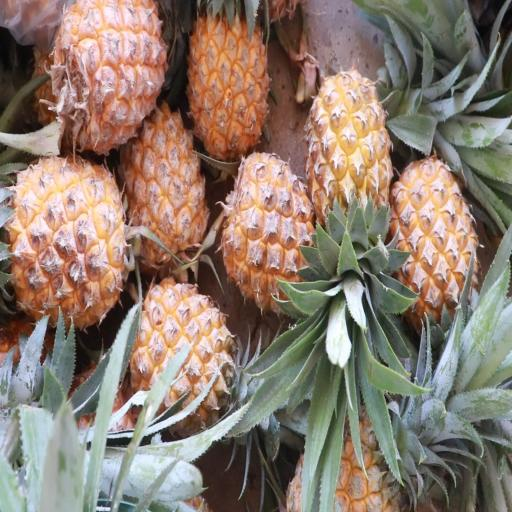Pineapple - v8 v1: (0, 151, 136, 333), (50, 0, 172, 163), (128, 272, 243, 429), (386, 151, 481, 338), (218, 151, 321, 320), (306, 63, 394, 260), (120, 98, 211, 276), (184, 2, 271, 174)
